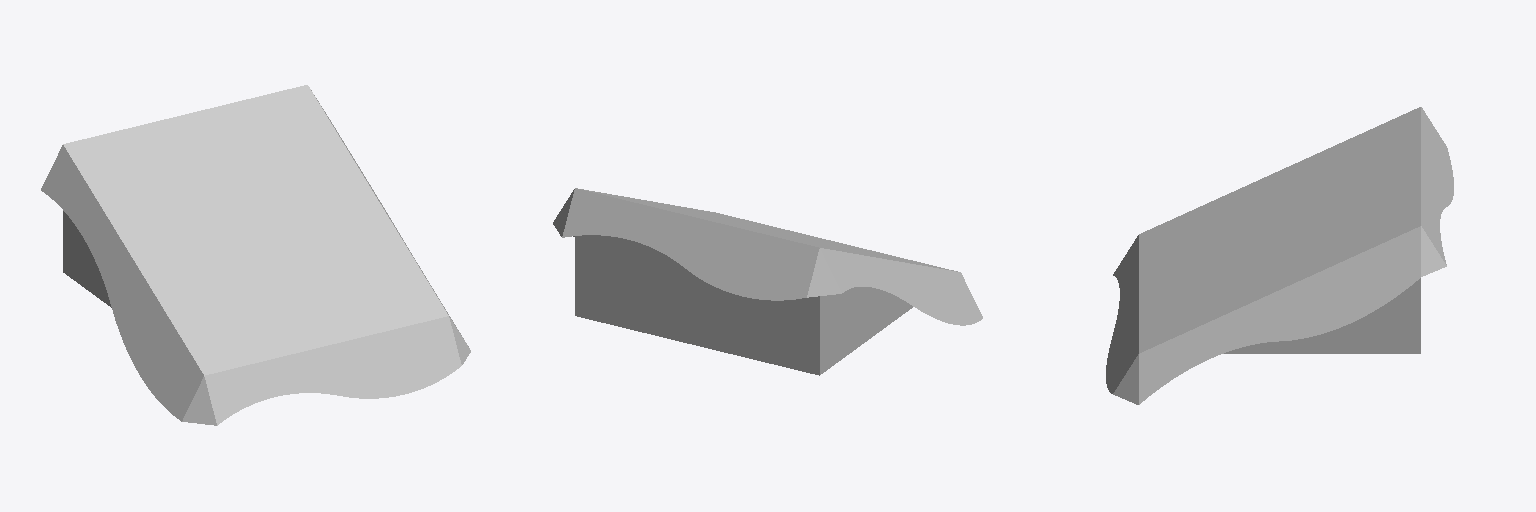
The model's file is blockSnowSlopeHalf.obj.
3 views of the same model, side by side, from view 1: azimuth 30°, elevation 25°; view 2: azimuth 150°, elevation 25°; view 3: azimuth 270°, elevation 25° (orthographic).
Visible parts, largest first — view 1: blockSnowSlopeHalf; view 2: blockSnowSlopeHalf; view 3: blockSnowSlopeHalf.
Boxes of the visible parts, x1,y1,x2,y2 form: blockSnowSlopeHalf: [41, 85, 470, 425]; blockSnowSlopeHalf: [553, 188, 982, 375]; blockSnowSlopeHalf: [1106, 107, 1453, 404].
Size of the model in its own units: 1.23 by 0.7018 by 1.23.